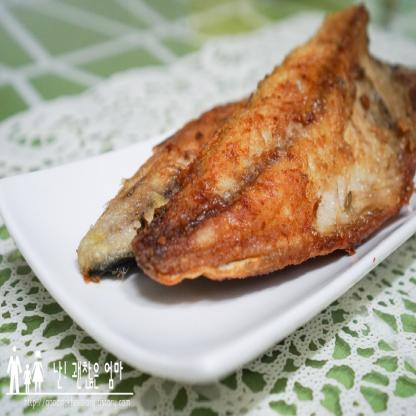Peixe: (66, 0, 416, 318)
